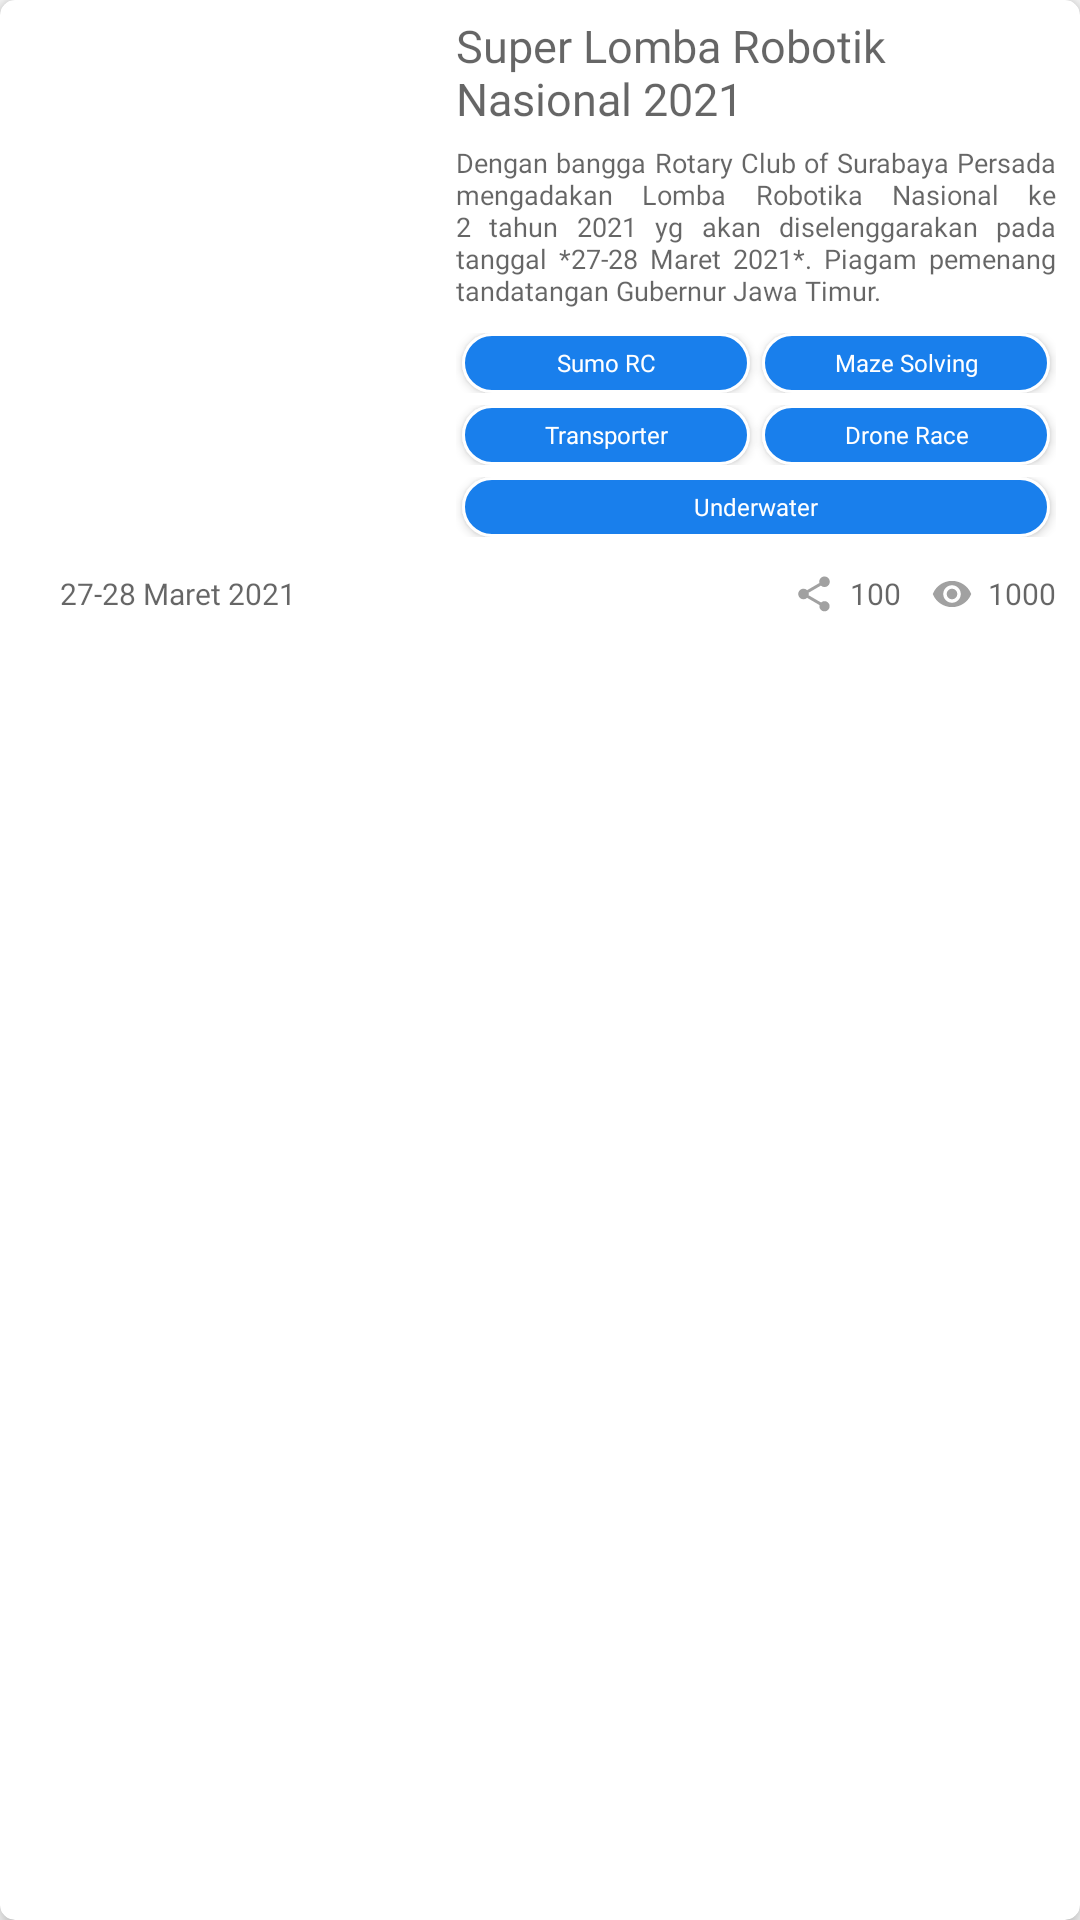

Named icons in this screenshot (1080x1920) and their bounding boxes, (x1, y1, x2, y2):
eye: (933, 581, 971, 607)
share: (798, 576, 830, 611)
